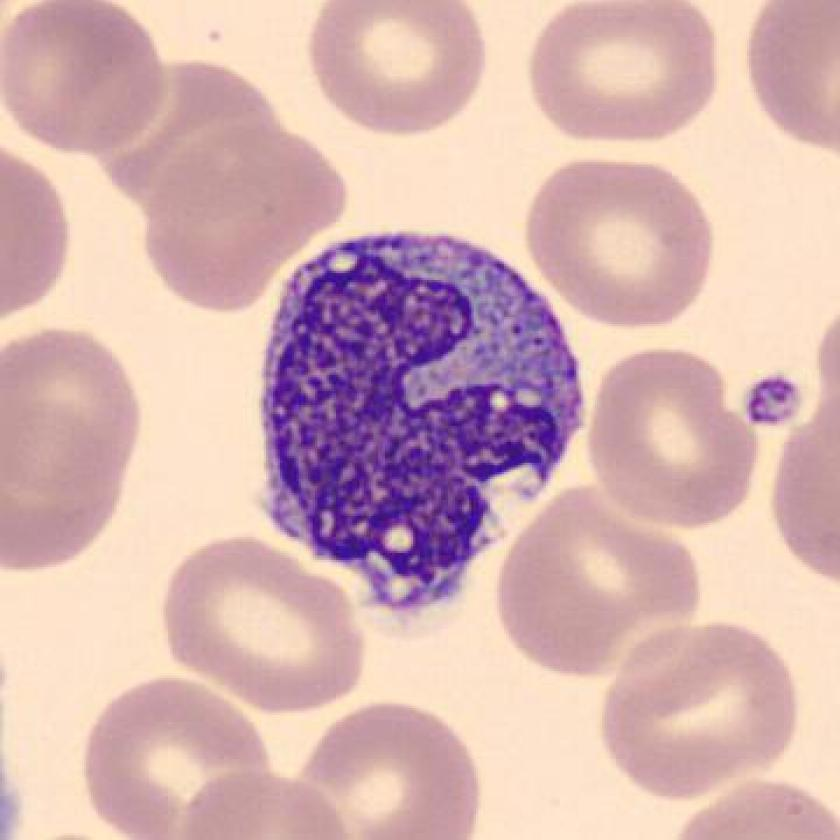monocyte: (239, 219, 603, 635)
